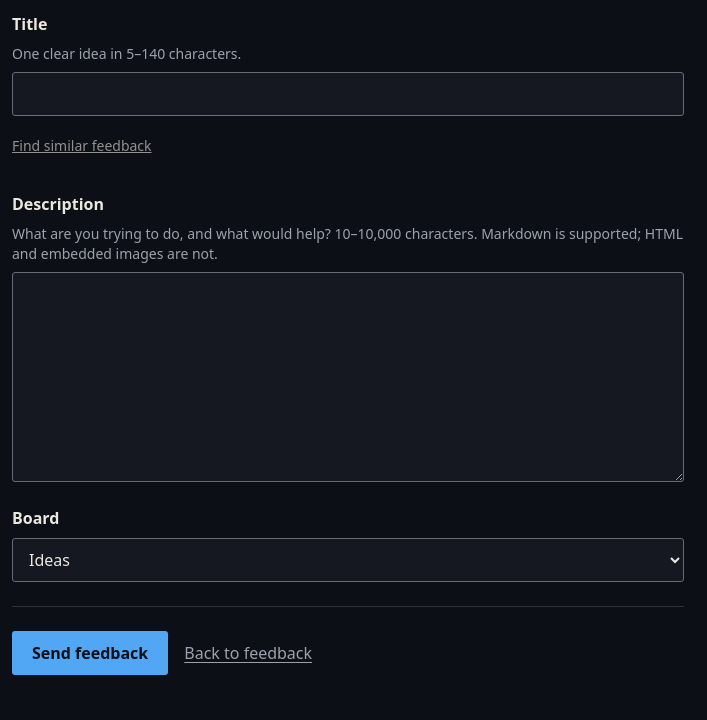
Test case: lets suggestions fail without blocking submission
Step 1. Type "Export reports" into the field labelled "Title" → [348, 94], box [12,72,684,116]
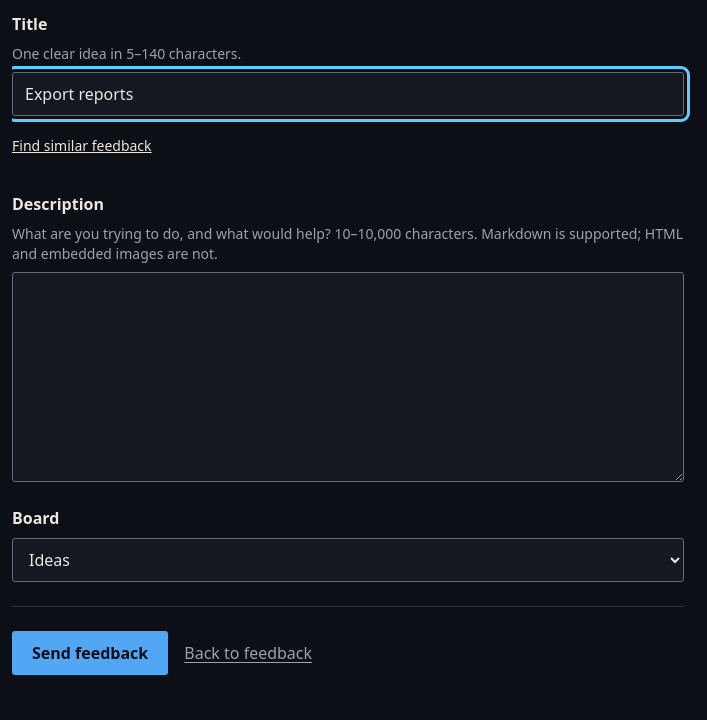
Step 2. Click the button "Find similar feedback" → [82, 146], box [12,124,152,168]
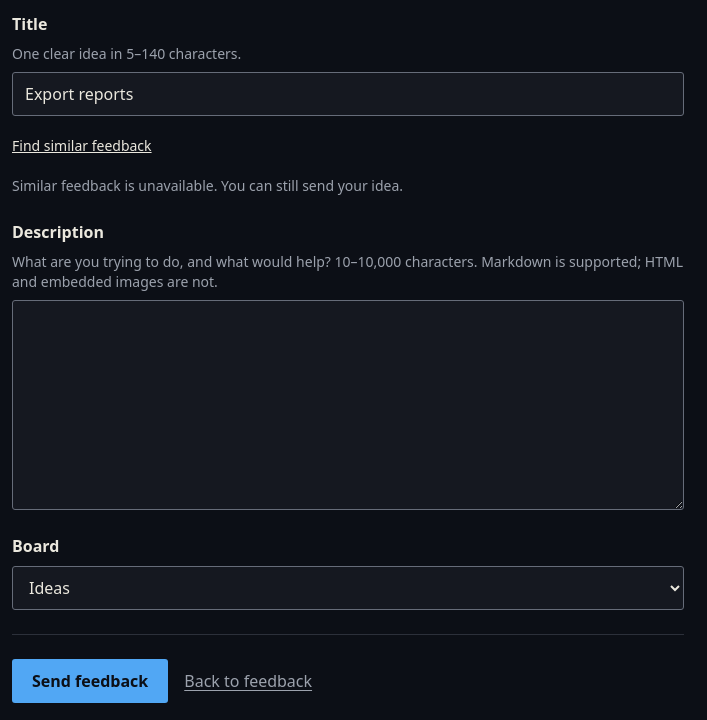
Expected: the button "Send feedback" is enabled, [12,659,168,703]
Expected: the message shows "You can still send", [12,176,403,195]
